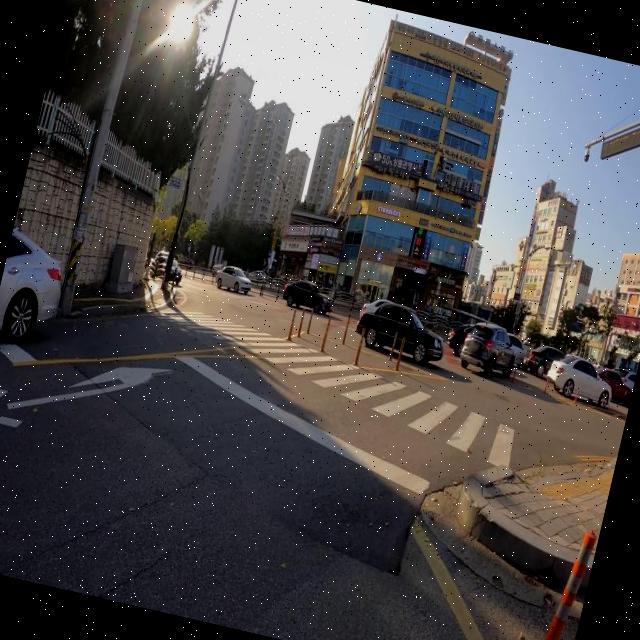crosswalk: (150, 311, 514, 468)
